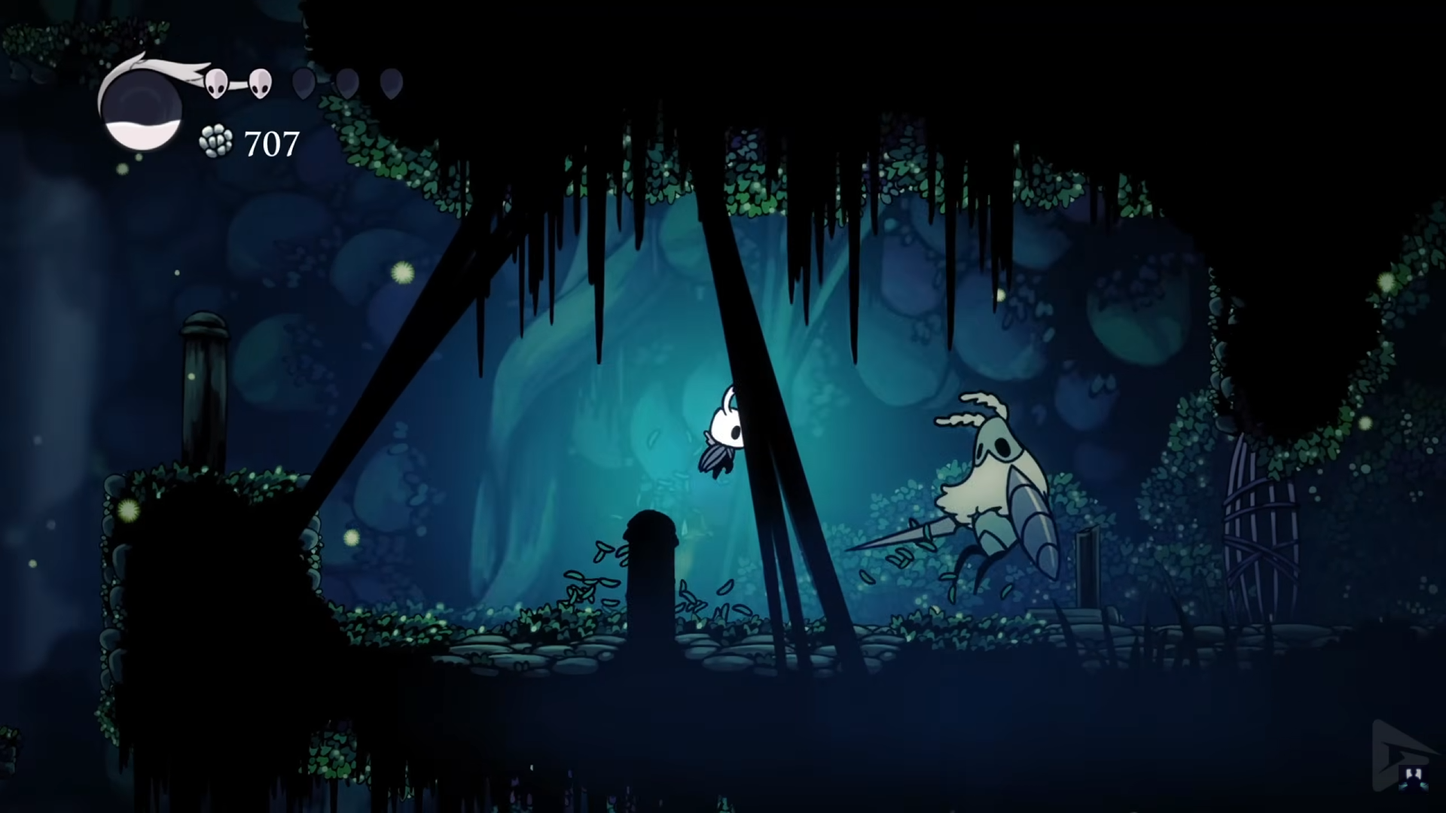HK: (696, 380, 754, 483)
